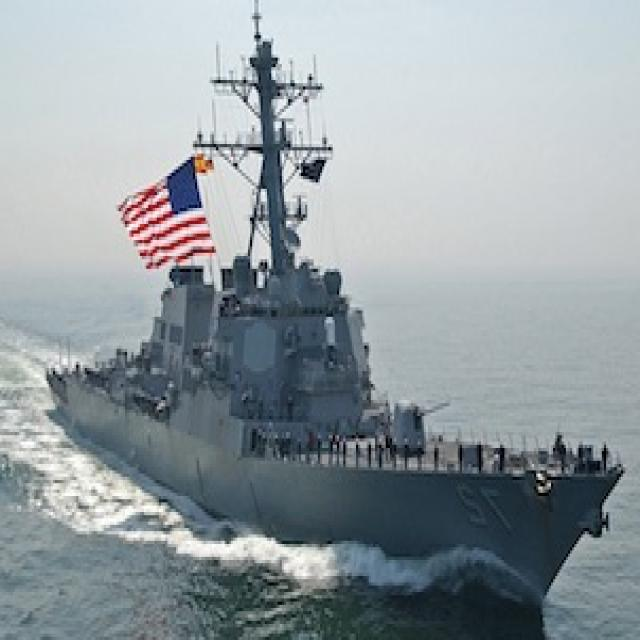navalvessels: (20, 70, 632, 617)
